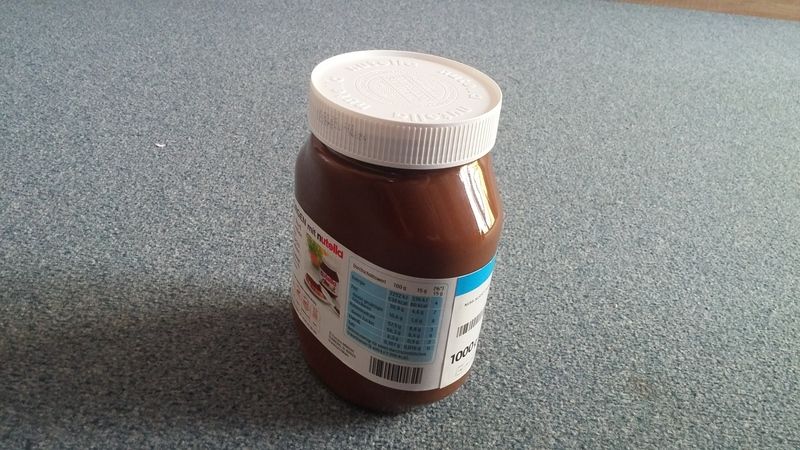nutella: (291, 49, 504, 409)
